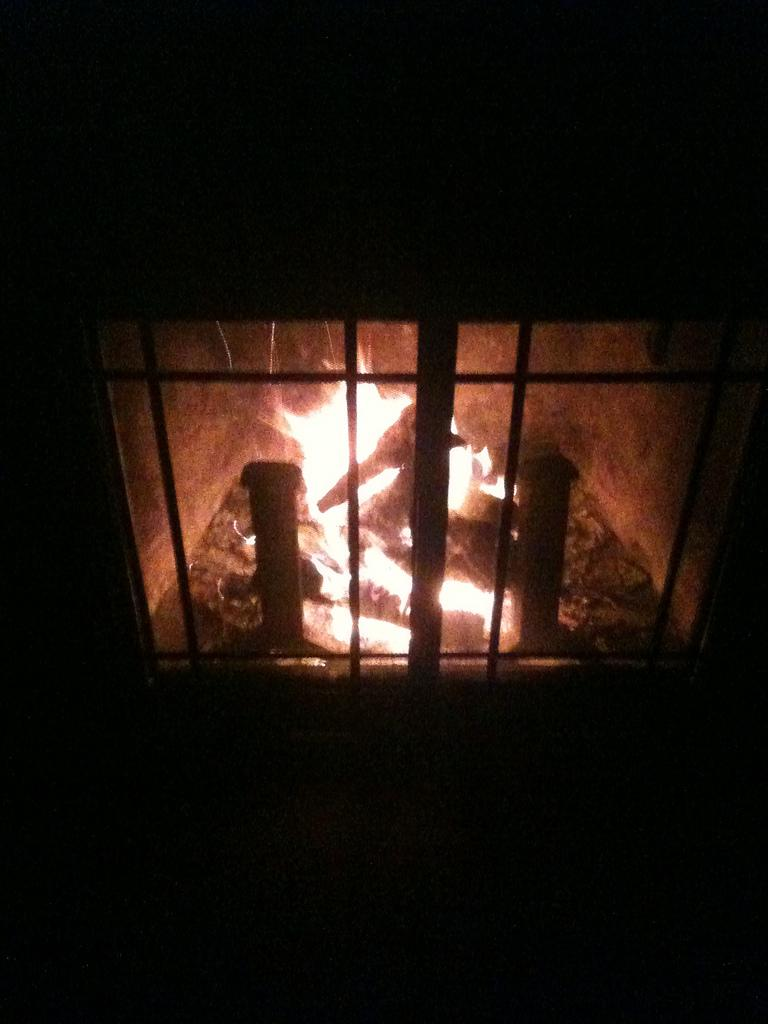fire: (290, 365, 400, 490), (325, 538, 420, 652)
